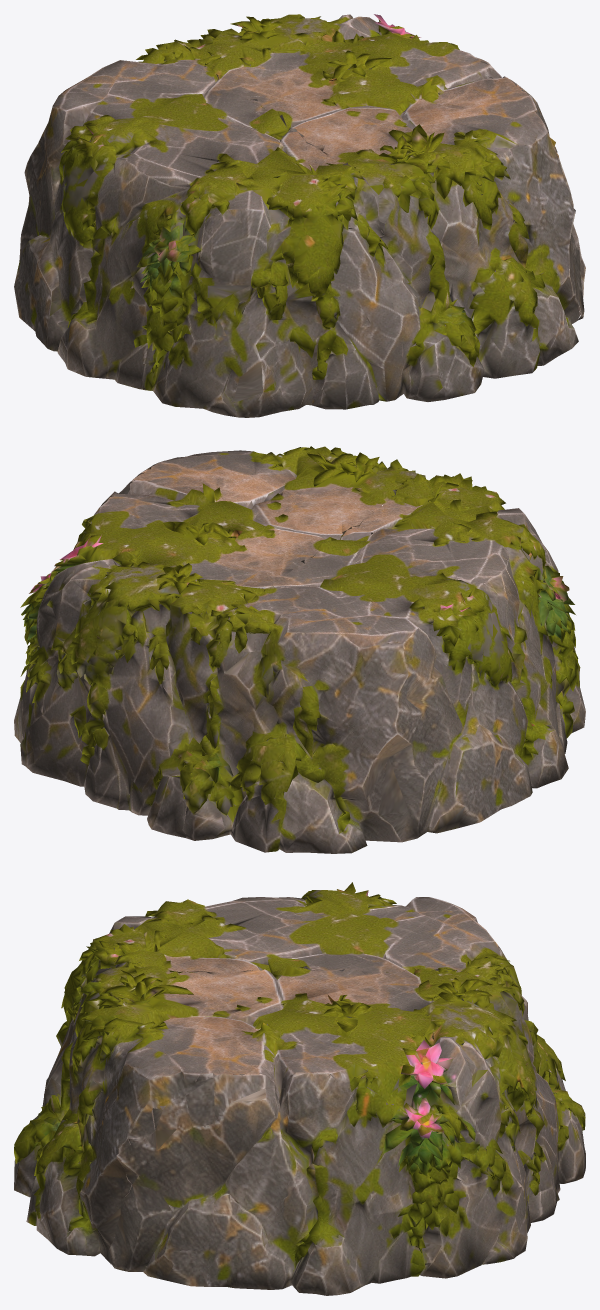
File: mossy_stone.glb
3 renders of one model, top to bottom at view 1: azimuth 30°, elevation 25°; view 2: azimuth 150°, elevation 25°; view 3: azimuth 270°, elevation 25°, orthographic.
Parts seen in each view (by area): view 1: Mesh_0; view 2: Mesh_0; view 3: Mesh_0.
Boxes of the visible parts, x1=… form: Mesh_0: x1=14, y1=14, x2=585, y2=417; Mesh_0: x1=14, y1=446, x2=585, y2=853; Mesh_0: x1=14, y1=882, x2=585, y2=1295.
Size of the model in its own units: 1.9 by 0.7674 by 1.88.
Materials: 1 (1 with a texture image).
